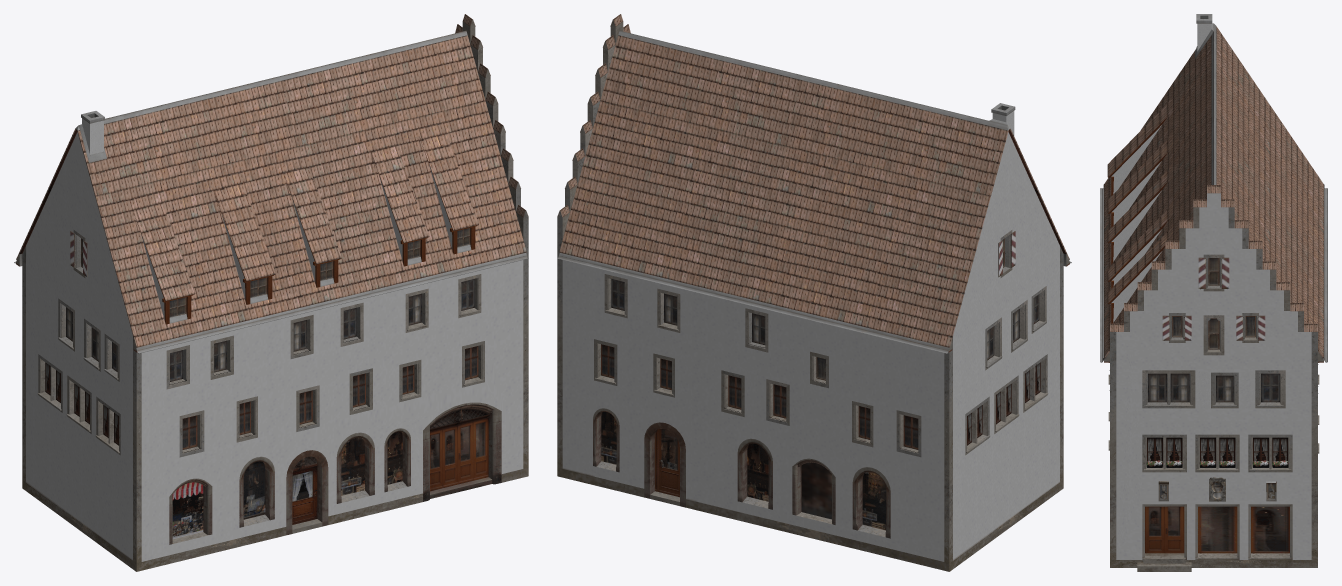
File: mdl_wollo_rothenburg_1.gltf
3 views of the same model, side by side, from view 1: azimuth 30°, elevation 25°; view 2: azimuth 150°, elevation 25°; view 3: azimuth 270°, elevation 25° (orthographic). The views are drawn at different scales.
Visible parts, largest first — view 1: Object_3, Object_2; view 2: Object_3, Object_2; view 3: Object_3, Object_2.
Part boxes in pixels (box(x1,y1,x2,y2)): Object_3: box(16, 14, 528, 571); Object_2: box(14, 228, 528, 538); Object_3: box(557, 14, 1069, 571); Object_2: box(557, 238, 1071, 530); Object_3: box(1104, 14, 1323, 571); Object_2: box(1100, 184, 1327, 553).
Bounding box in the file's own units: 20.47 × 20.24 × 10.95.
Materials: 1 (1 with a texture image).
